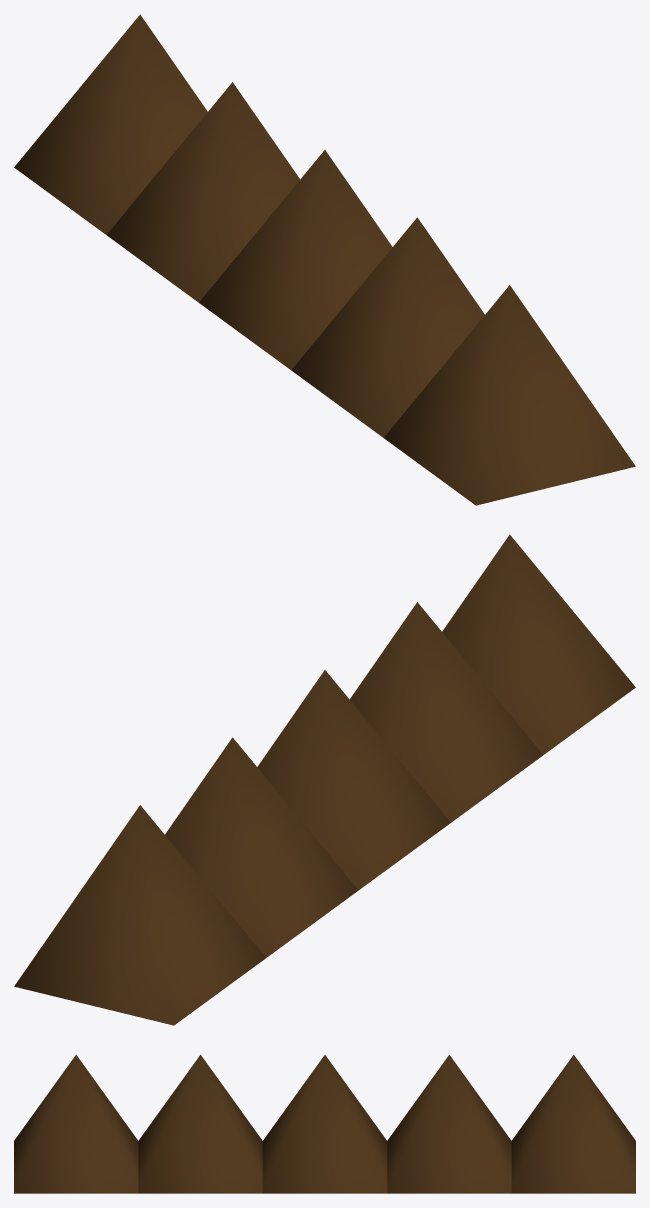
File: Trap.fbx
3 renders of one model, top to bottom at view 1: azimuth 30°, elevation 25°; view 2: azimuth 150°, elevation 25°; view 3: azimuth 270°, elevation 25°, orthographic. The views are drawn at different scales.
Visible parts, largest first — view 1: Trap; view 2: Trap; view 3: Trap.
Boxes of the visible parts, box(x1,y1,x2,y2) form: Trap: box(14, 14, 635, 505); Trap: box(14, 534, 635, 1025); Trap: box(14, 1054, 635, 1193).
Size of the model in its own units: 200 by 200 by 1000.
1 material, 1 textured.
